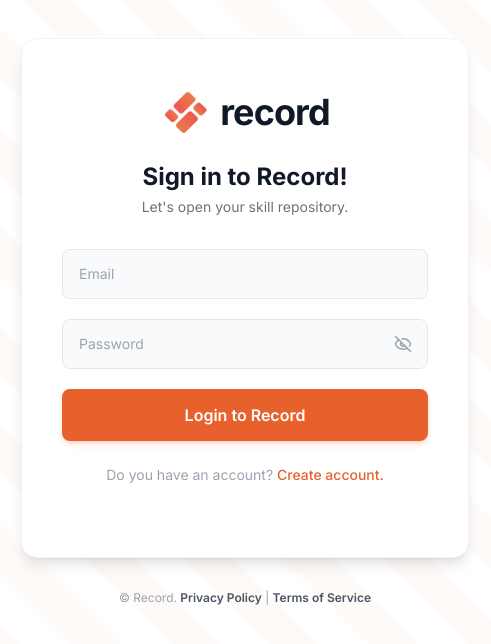
Test: Login Component › shows error messages for empty inputs on submit
Click the button "Login to Record" at (245, 416), box [62,390,428,442]
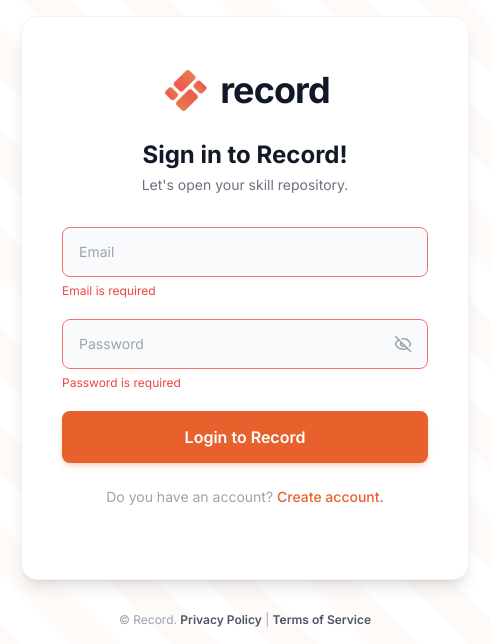
Check: the text "Email is required" is shown, box [62,284,156,298]
Check: the text "Password is required" is shown, box [62,376,181,390]
